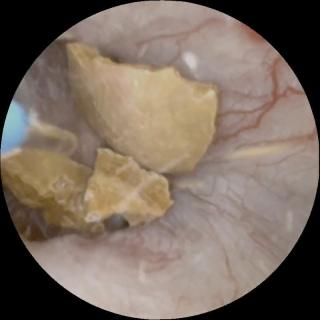fiber: (2, 102, 26, 151)
stone: (63, 41, 215, 175), (6, 149, 173, 231)
tissue: (18, 8, 313, 309)
